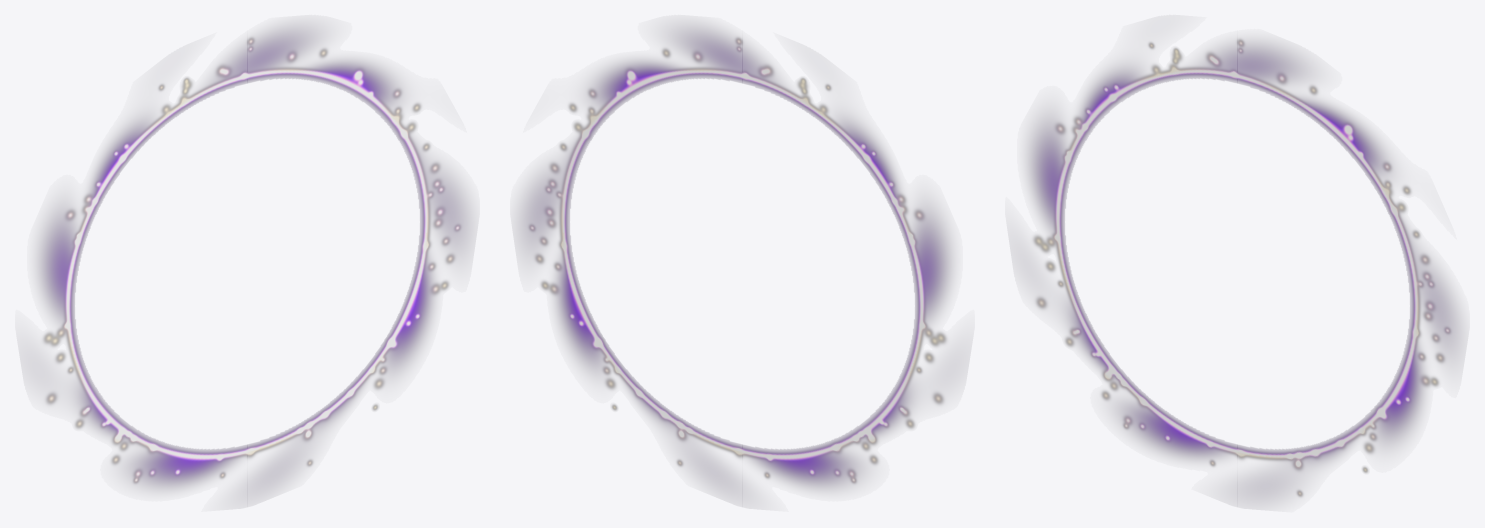
File: portal_ns_rim.glb
3 views of the same model, side by side, from view 1: azimuth 30°, elevation 25°; view 2: azimuth 150°, elevation 25°; view 3: azimuth 330°, elevation 25° (orthographic).
Visible parts, largest first — view 1: portal_ns_rim_portal_ns_rim; view 2: portal_ns_rim_portal_ns_rim; view 3: portal_ns_rim_portal_ns_rim.
Boxes of the visible parts, x1=… form: portal_ns_rim_portal_ns_rim: x1=38, y1=26, x2=469, y2=502; portal_ns_rim_portal_ns_rim: x1=520, y1=26, x2=951, y2=502; portal_ns_rim_portal_ns_rim: x1=1028, y1=38, x2=1459, y2=502.
Size of the model in its own units: 3.9 by 3.9 by 0.
Materials: 1 (1 with a texture image).
